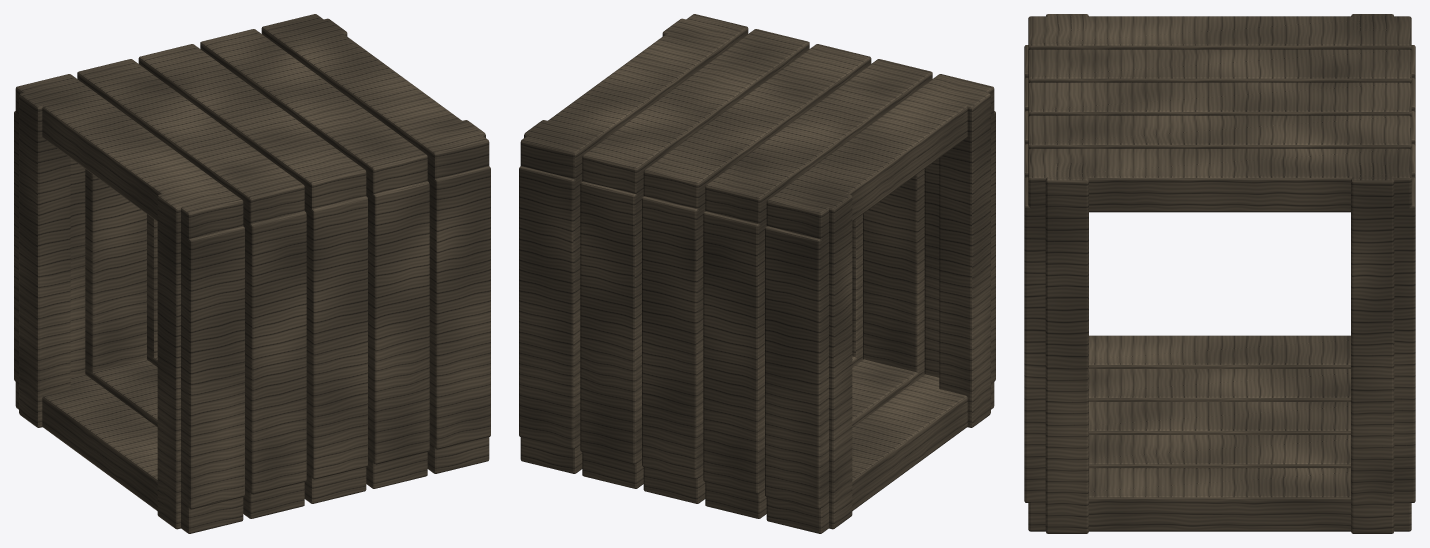
Rendered from Crate.fbx.
3 renders of one model, left to right at view 1: azimuth 30°, elevation 25°; view 2: azimuth 150°, elevation 25°; view 3: azimuth 270°, elevation 25°, orthographic. The views are drawn at different scales.
Visible parts, largest first — view 1: Crate; view 2: Crate; view 3: Crate.
Boxes of the visible parts, left/top/right/bottom form: Crate: left=14, top=14, right=490, bottom=533; Crate: left=519, top=14, right=995, bottom=533; Crate: left=1024, top=14, right=1415, bottom=533.
Bounding box in the file's own units: 101 × 100 × 100.
